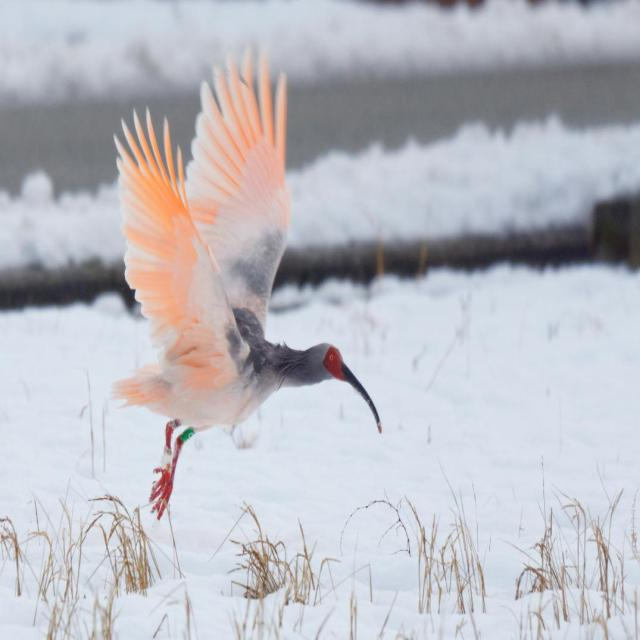bird: (100, 37, 392, 529)
